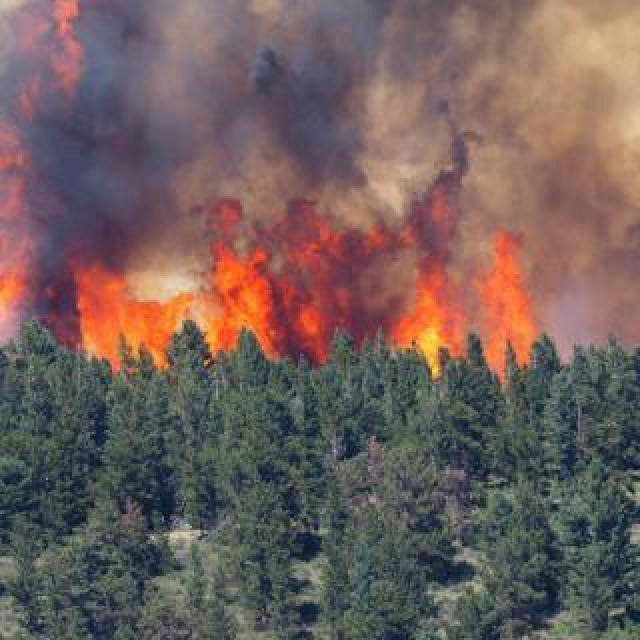Fire: (74, 238, 184, 358), (214, 206, 280, 360), (480, 236, 542, 356), (402, 246, 456, 366), (278, 240, 324, 368), (2, 258, 20, 324)
Smoke: (306, 222, 418, 340), (24, 236, 72, 334)
